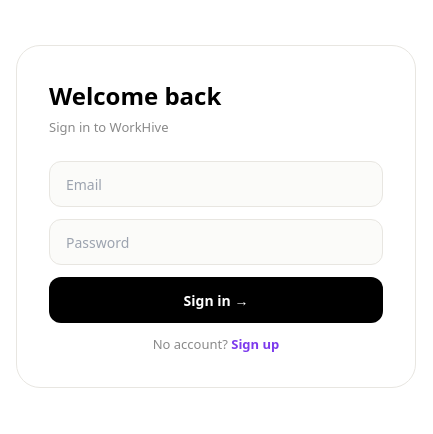
Test case: Frontend Pages › 14. Form validation - email required
The width and height of the screenshot is (433, 434).
What coordinates should you click on to do the following:
click the button "Sign in →"
I would click on:
 (216, 300)
Its box is [49, 277, 383, 323].
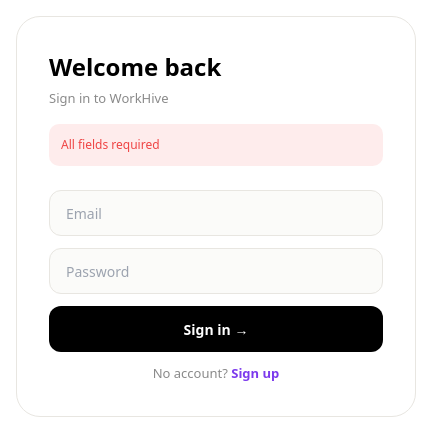
Check: the text "All fields required" is shown, box [49, 124, 383, 166]
